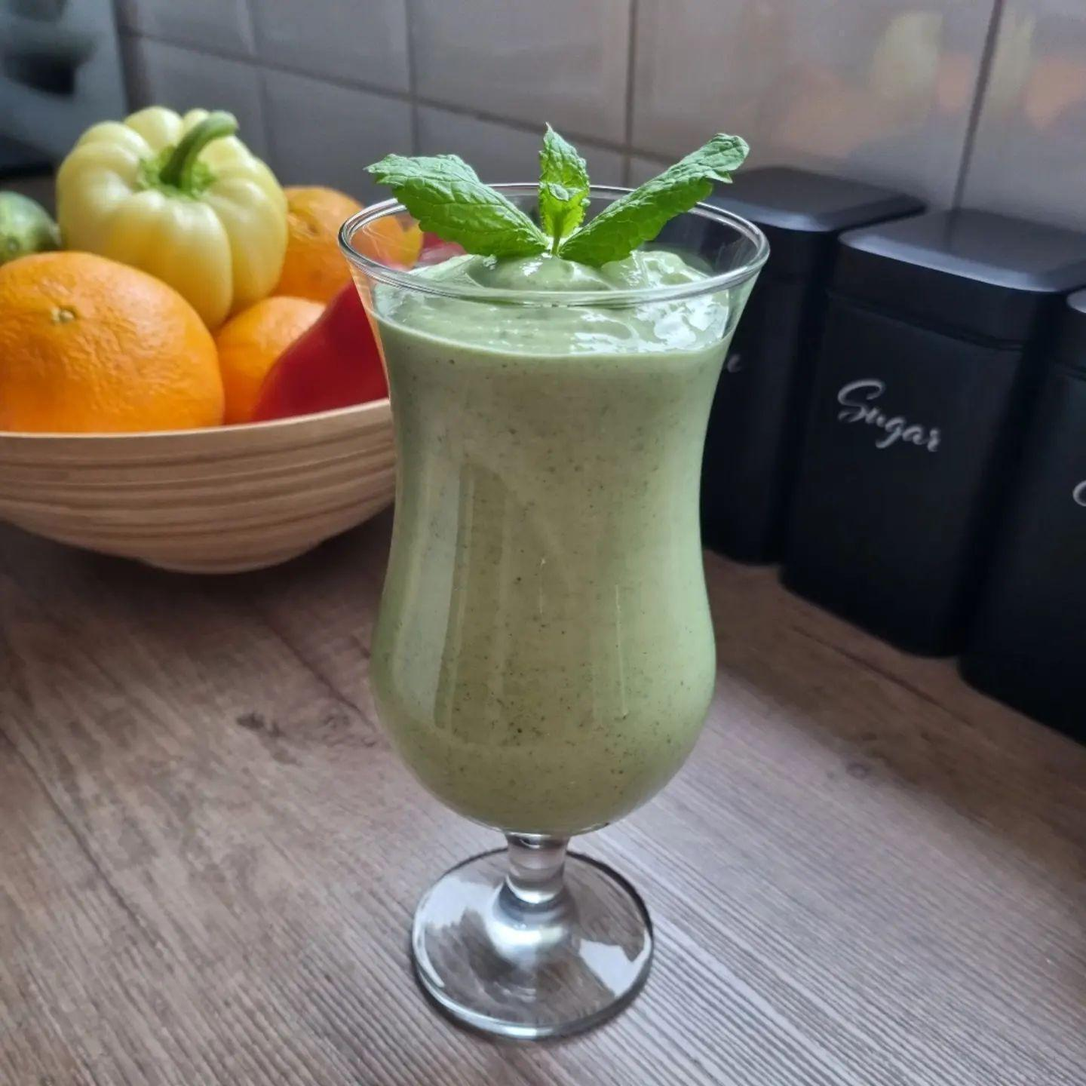glass-wine: (338, 179, 770, 1045)
